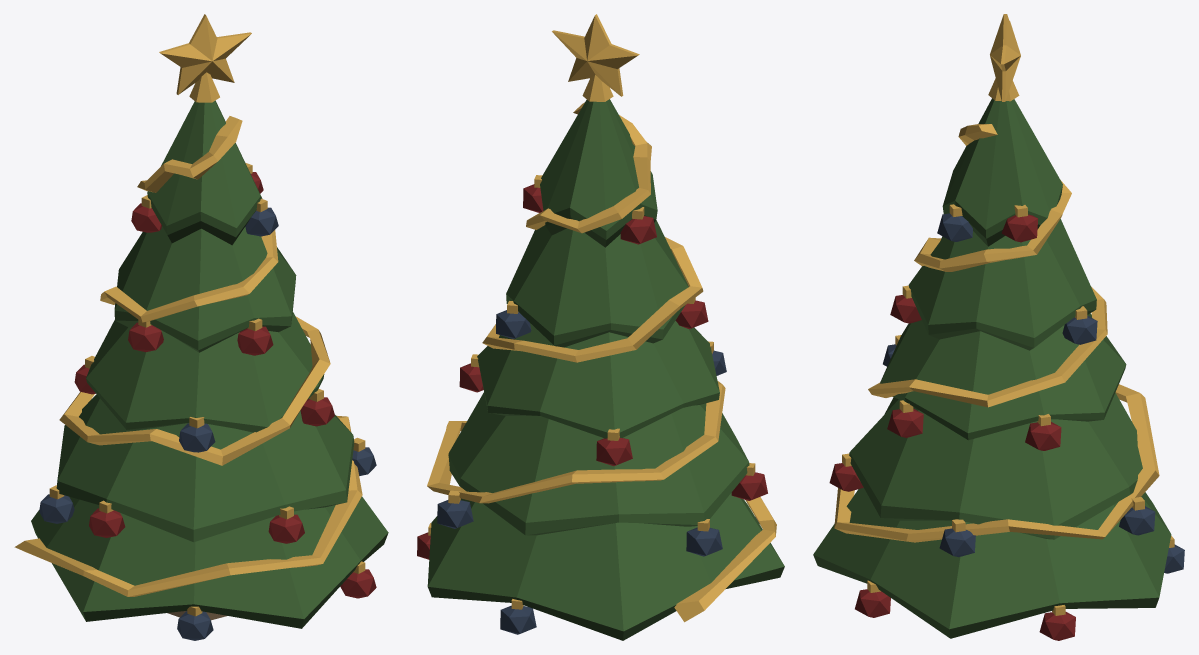
Rendered from SM_Prop_Xmas_Tree_01.glb.
The picture shows the model from 3 angles, left to right: view 1: azimuth 30°, elevation 25°; view 2: azimuth 150°, elevation 25°; view 3: azimuth 270°, elevation 25°; orthographic projection.
Parts seen in each view (by area): view 1: SM_Prop_Xmas_Tree_01; view 2: SM_Prop_Xmas_Tree_01; view 3: SM_Prop_Xmas_Tree_01.
Boxes of the visible parts, x1,y1,x2,y2 form: SM_Prop_Xmas_Tree_01: (14, 14, 388, 640); SM_Prop_Xmas_Tree_01: (417, 14, 784, 640); SM_Prop_Xmas_Tree_01: (813, 14, 1184, 640).
Bounding box in the file's own units: 1.65 × 2.99 × 1.7.
1 material, 1 textured.
